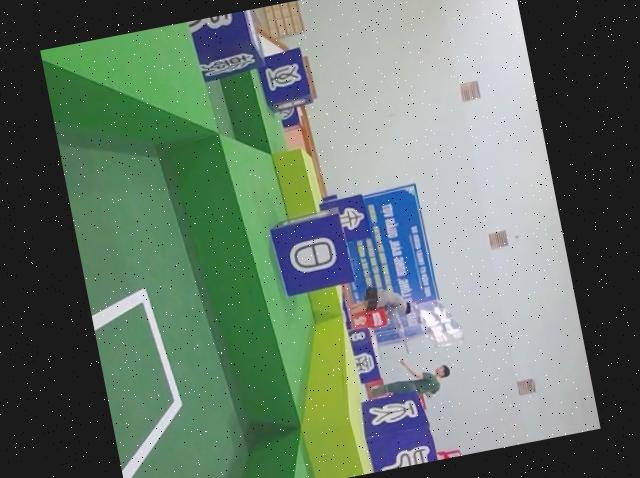R2 Fake Blue: (263, 205, 354, 299), (354, 391, 435, 474), (183, 8, 266, 80), (251, 44, 311, 110), (317, 191, 371, 245), (347, 324, 381, 383)
